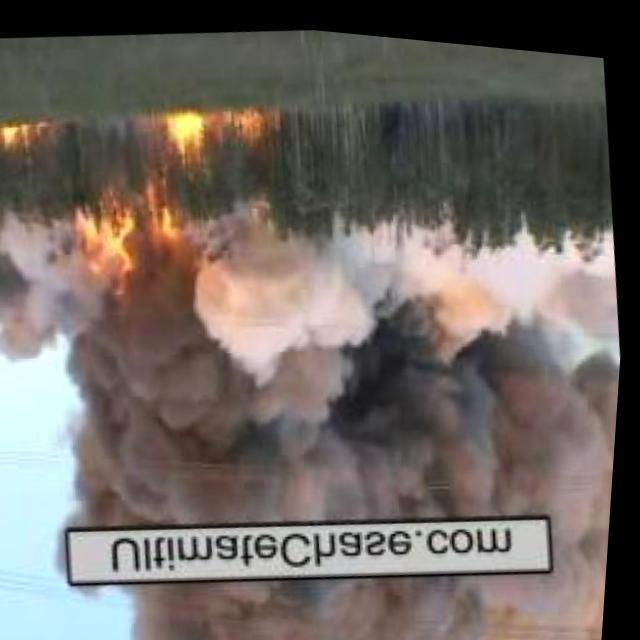fire: (67, 195, 149, 312), (164, 109, 210, 160), (146, 194, 182, 242), (0, 112, 36, 152), (233, 104, 271, 134)
